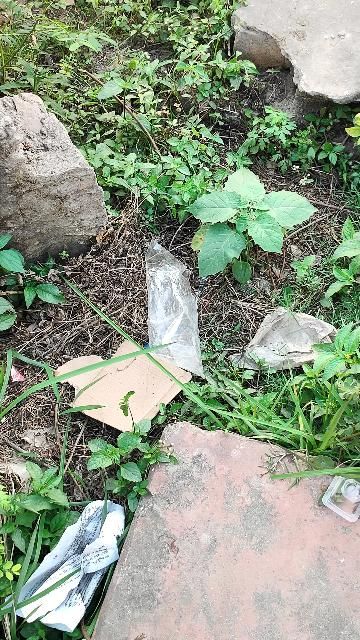polythene: (134, 240, 210, 378)
